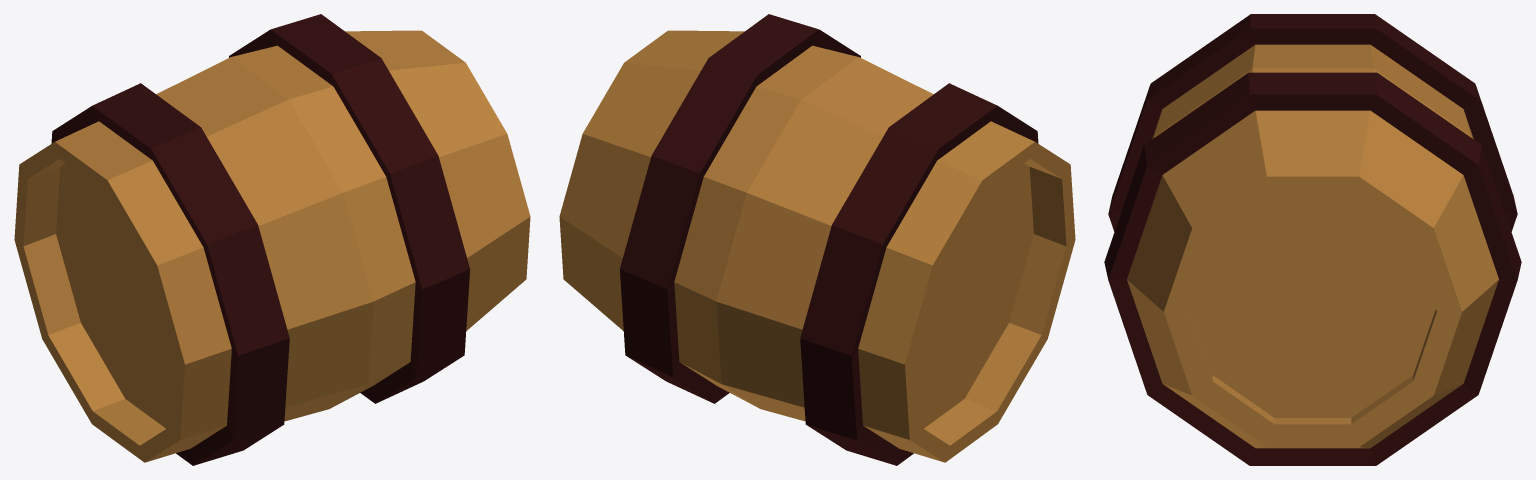
The model's file is barrel.003_lev4.glb.
3 renders of one model, left to right at view 1: azimuth 30°, elevation 25°; view 2: azimuth 150°, elevation 25°; view 3: azimuth 270°, elevation 25°, orthographic. The views are drawn at different scales.
Parts seen in each view (by area): view 1: barrel.003_lev4; view 2: barrel.003_lev4; view 3: barrel.003_lev4.
Boxes of the visible parts, x1,y1,x2,y2 form: barrel.003_lev4: (14, 14, 530, 465); barrel.003_lev4: (559, 14, 1075, 465); barrel.003_lev4: (1104, 14, 1521, 465).
Size of the model in its own units: 0.2739 by 0.241 by 0.2399.
